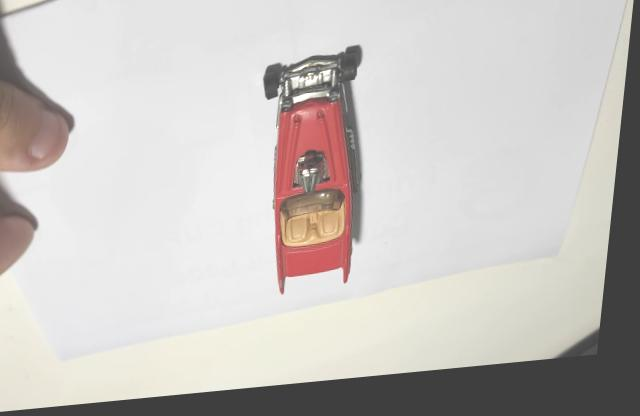03_V8: (264, 51, 368, 300)
